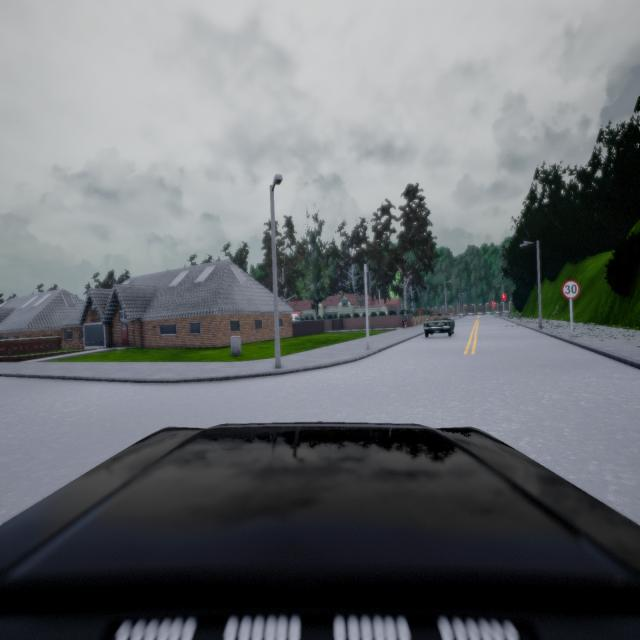Speed Limit -30-: (562, 280, 580, 300)
